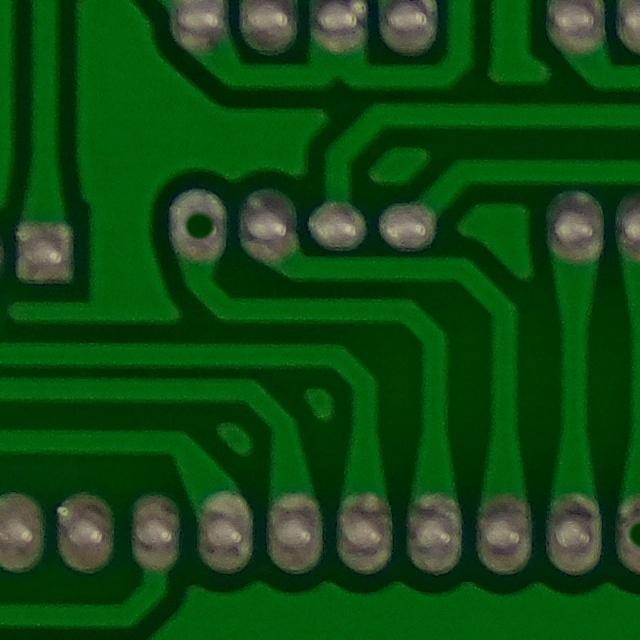missing_hole: (164, 187, 237, 267)
